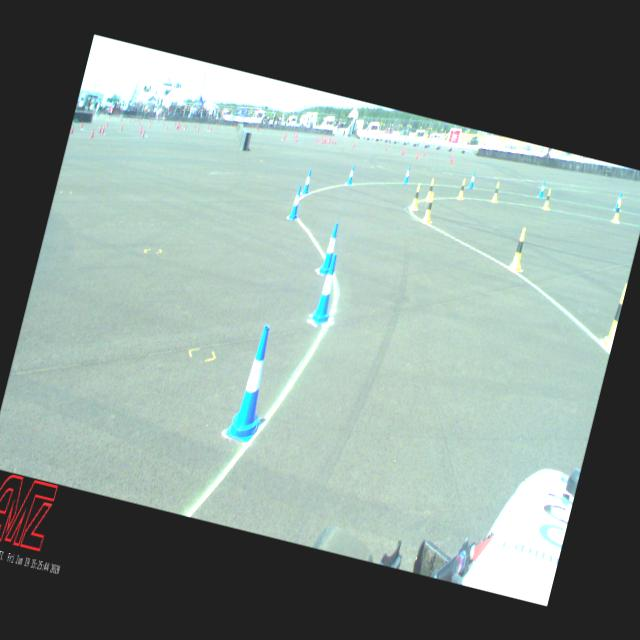blue_cone: (225, 322, 284, 444), (311, 253, 344, 324), (318, 220, 341, 274), (288, 185, 304, 220), (302, 170, 313, 194), (346, 164, 356, 184), (402, 165, 411, 184), (614, 192, 623, 211), (538, 180, 546, 198), (468, 172, 476, 188)
yellow_cone: (600, 282, 626, 350), (508, 227, 530, 272), (422, 192, 436, 222), (409, 183, 422, 210), (457, 178, 467, 200), (491, 180, 501, 202), (612, 200, 622, 222), (542, 188, 552, 209), (426, 178, 434, 201)
